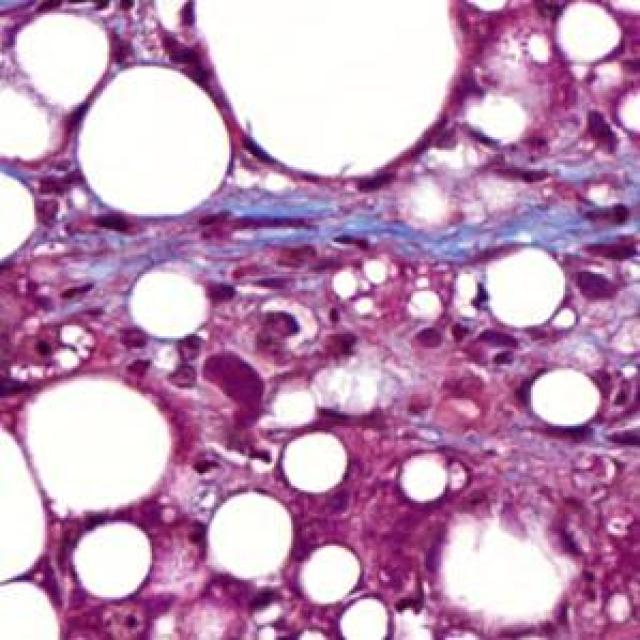steatosis: (73, 69, 233, 231)
